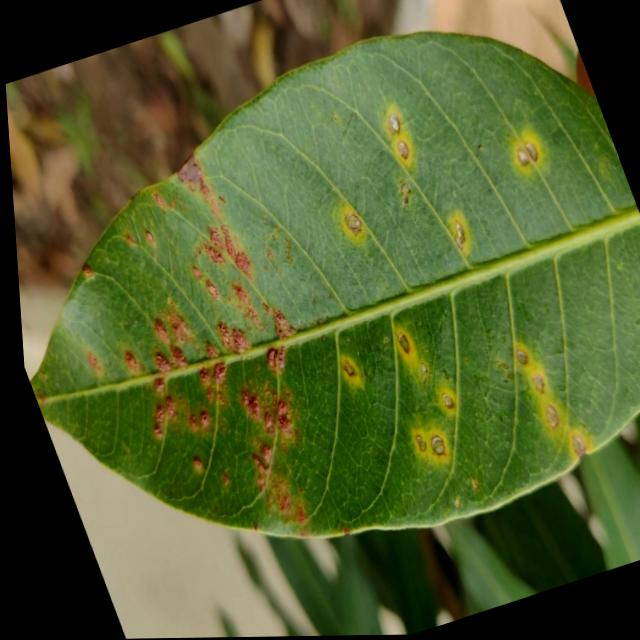Anthracnose: (368, 310, 485, 474), (499, 319, 592, 466), (370, 93, 417, 167), (498, 123, 552, 180), (434, 195, 480, 259), (328, 194, 374, 250), (333, 344, 370, 397)
